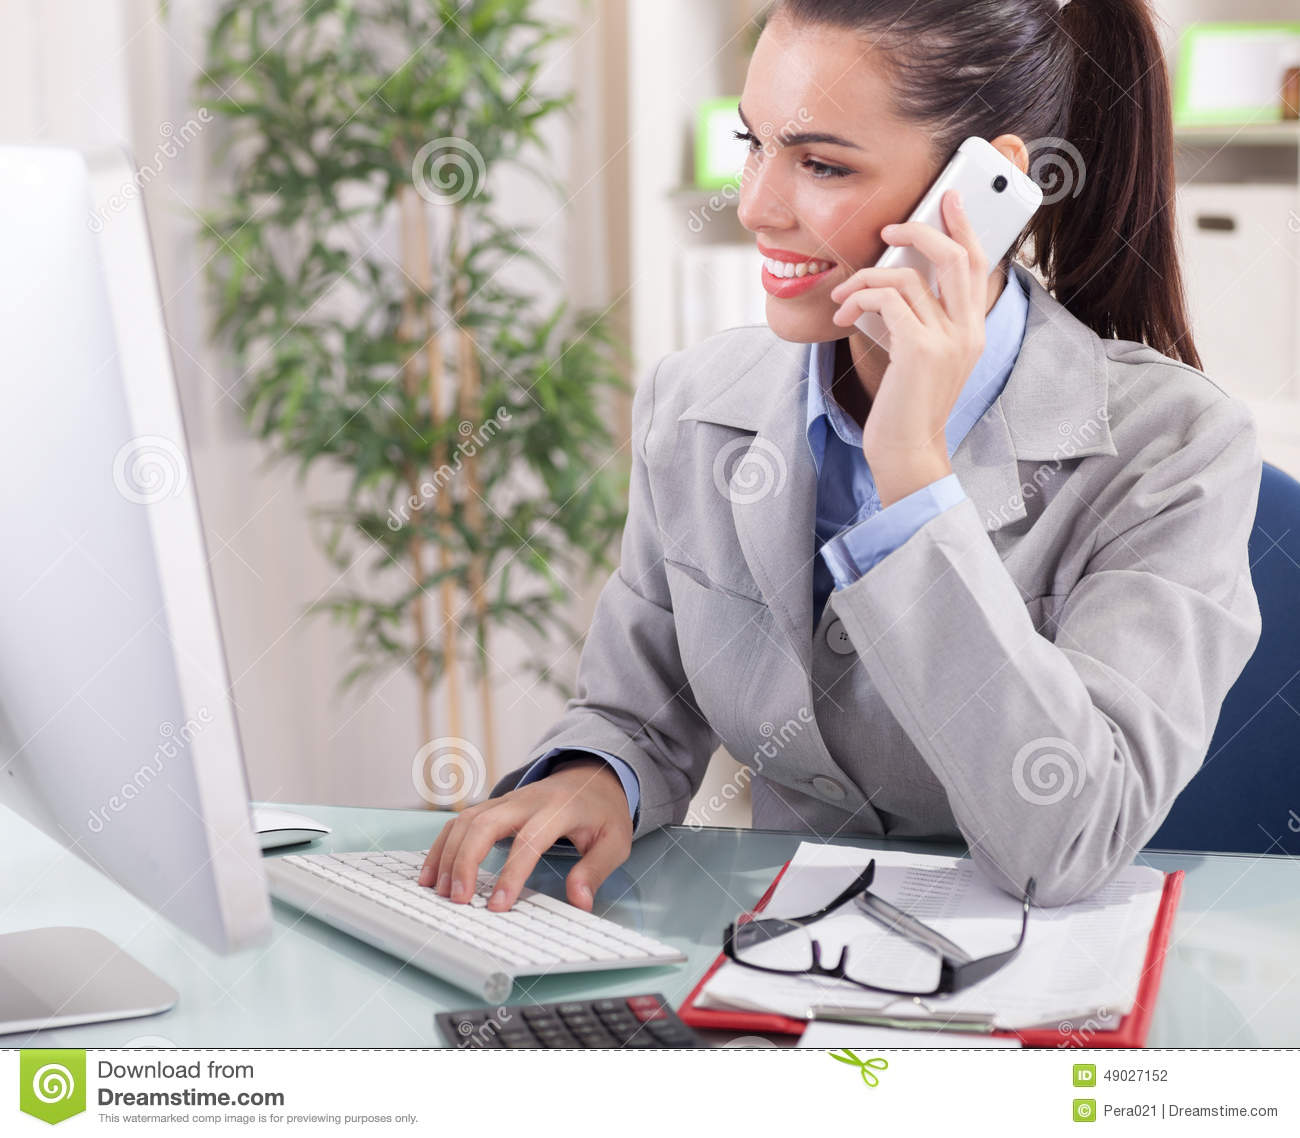phone: (856, 136, 1040, 377)
talk: (734, 102, 1046, 478)
